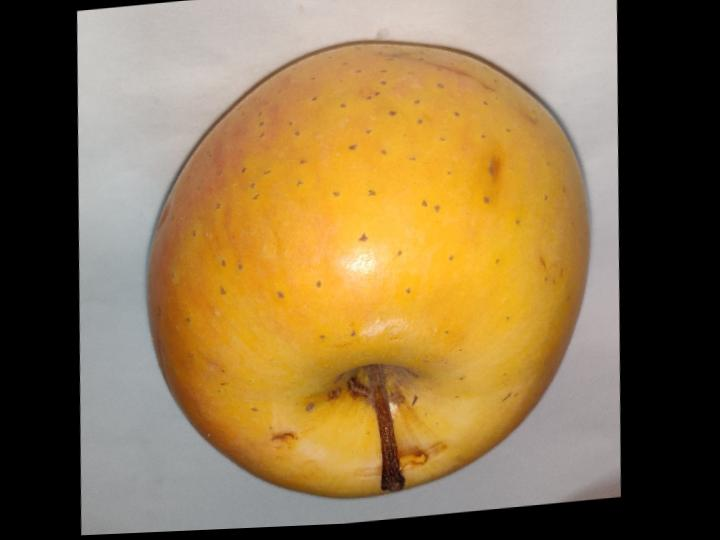apple: (148, 42, 588, 498)
surface_damage: (398, 451, 427, 470), (270, 433, 295, 449)
